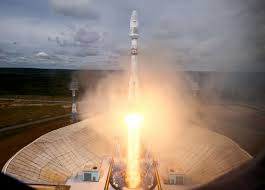ten_lua: (126, 7, 145, 116)
